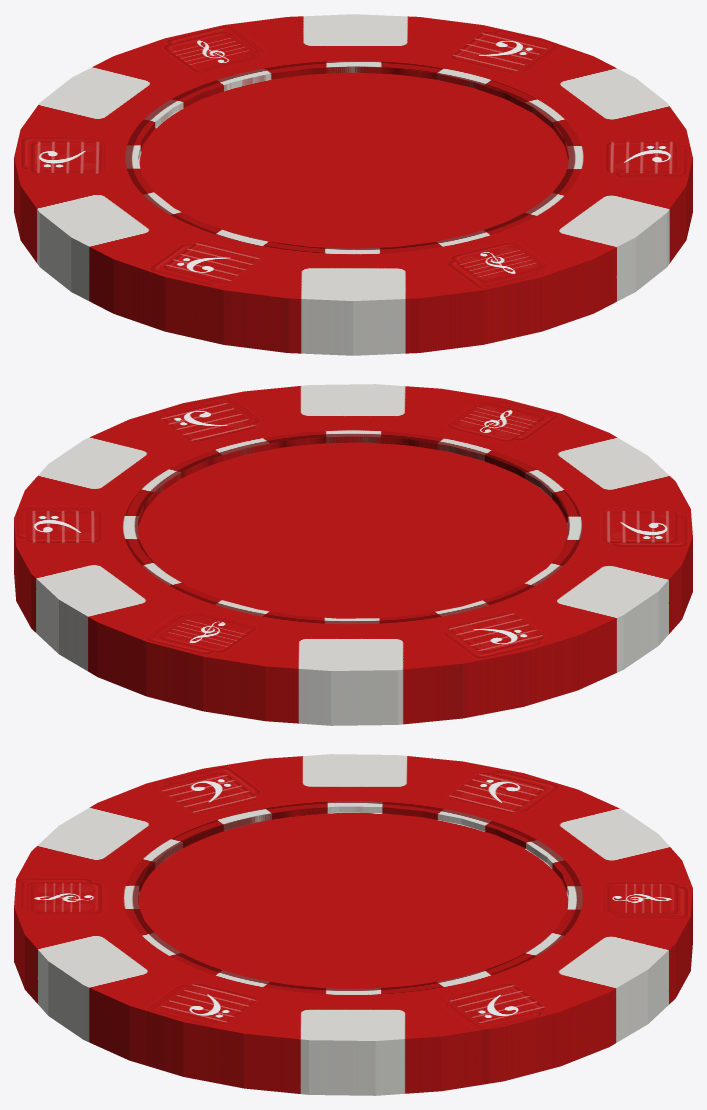
File: RedChip.fbx
The picture shows the model from 3 angles, top to bottom: view 1: azimuth 30°, elevation 25°; view 2: azimuth 150°, elevation 25°; view 3: azimuth 270°, elevation 25°; orthographic projection.
Visible parts, largest first — view 1: Cylinder; view 2: Cylinder; view 3: Cylinder.
Part boxes in pixels (x1,y1,x2,y2): Cylinder: (14, 14, 692, 355); Cylinder: (14, 384, 692, 725); Cylinder: (14, 754, 692, 1095).
Size of the model in its own units: 200 by 17.76 by 200.
